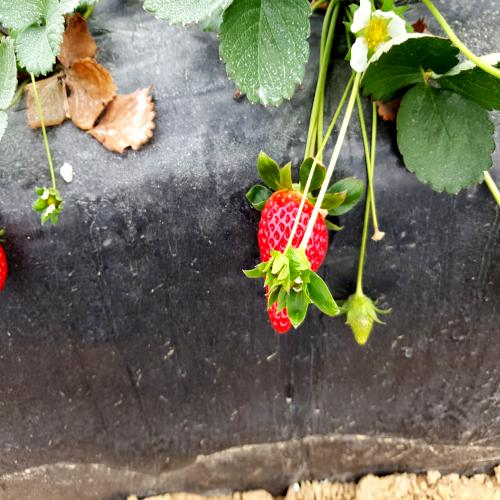ripe: (258, 180, 328, 339)
